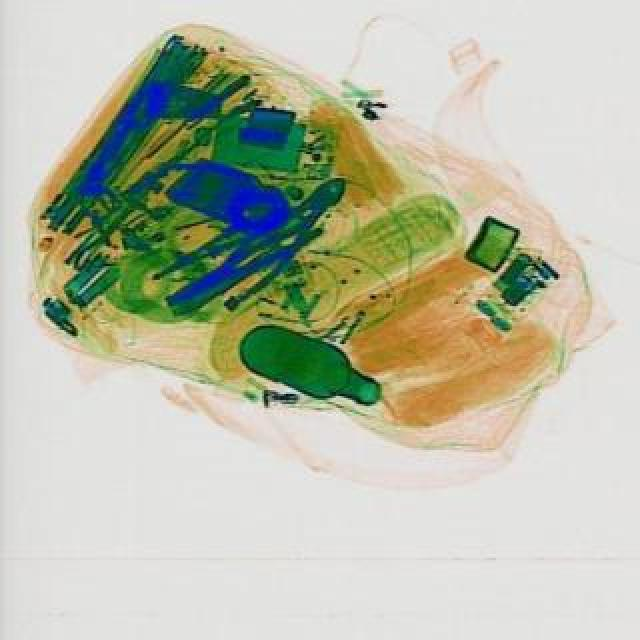wrench: (208, 164, 364, 308), (154, 210, 322, 324)
